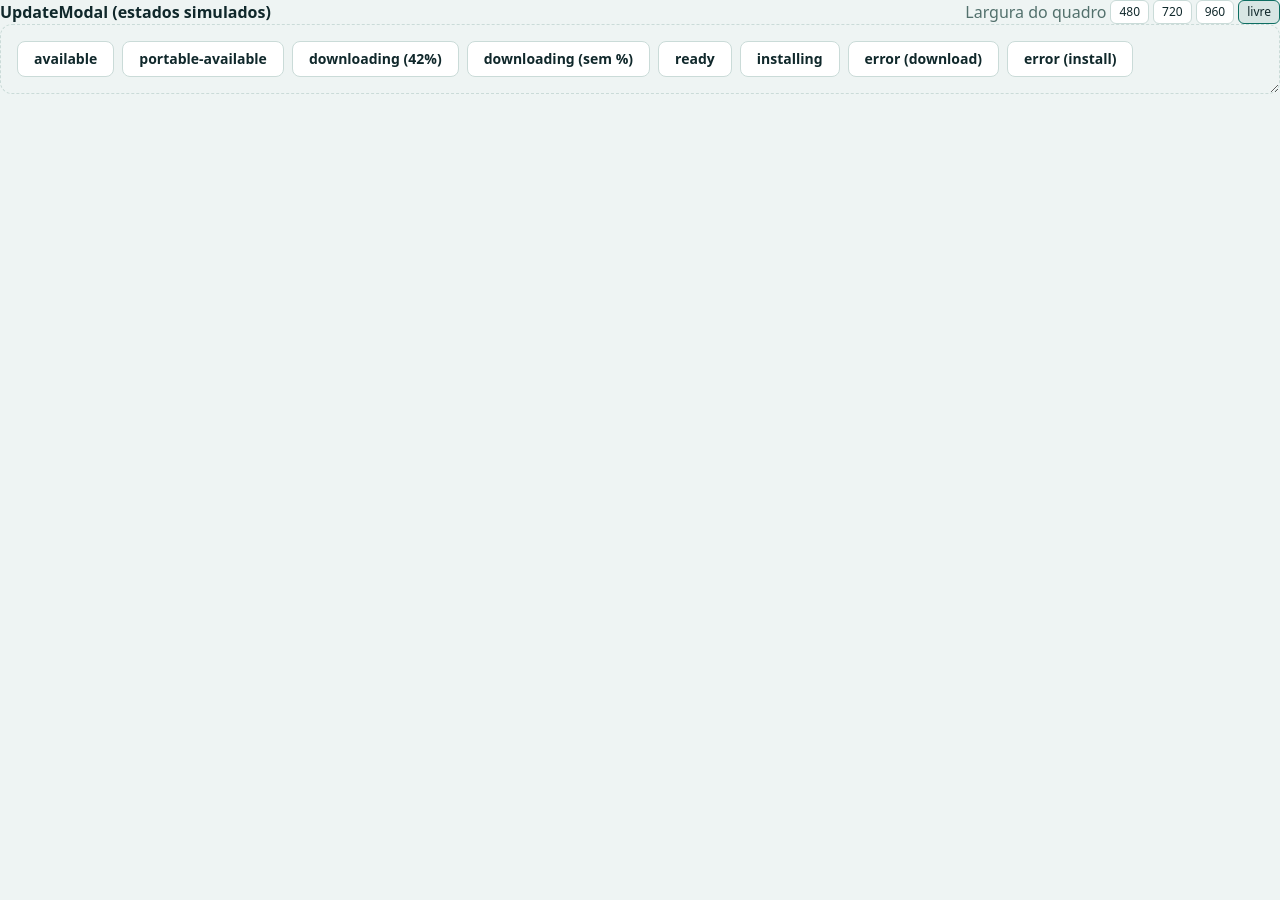
Test case: UpdateSection do guia /design › available mostra as notas no idioma e "Download and install" simula o download
The image size is (1280, 900).
Click the button "available" at [66, 59], box 17,41 -> 114,77
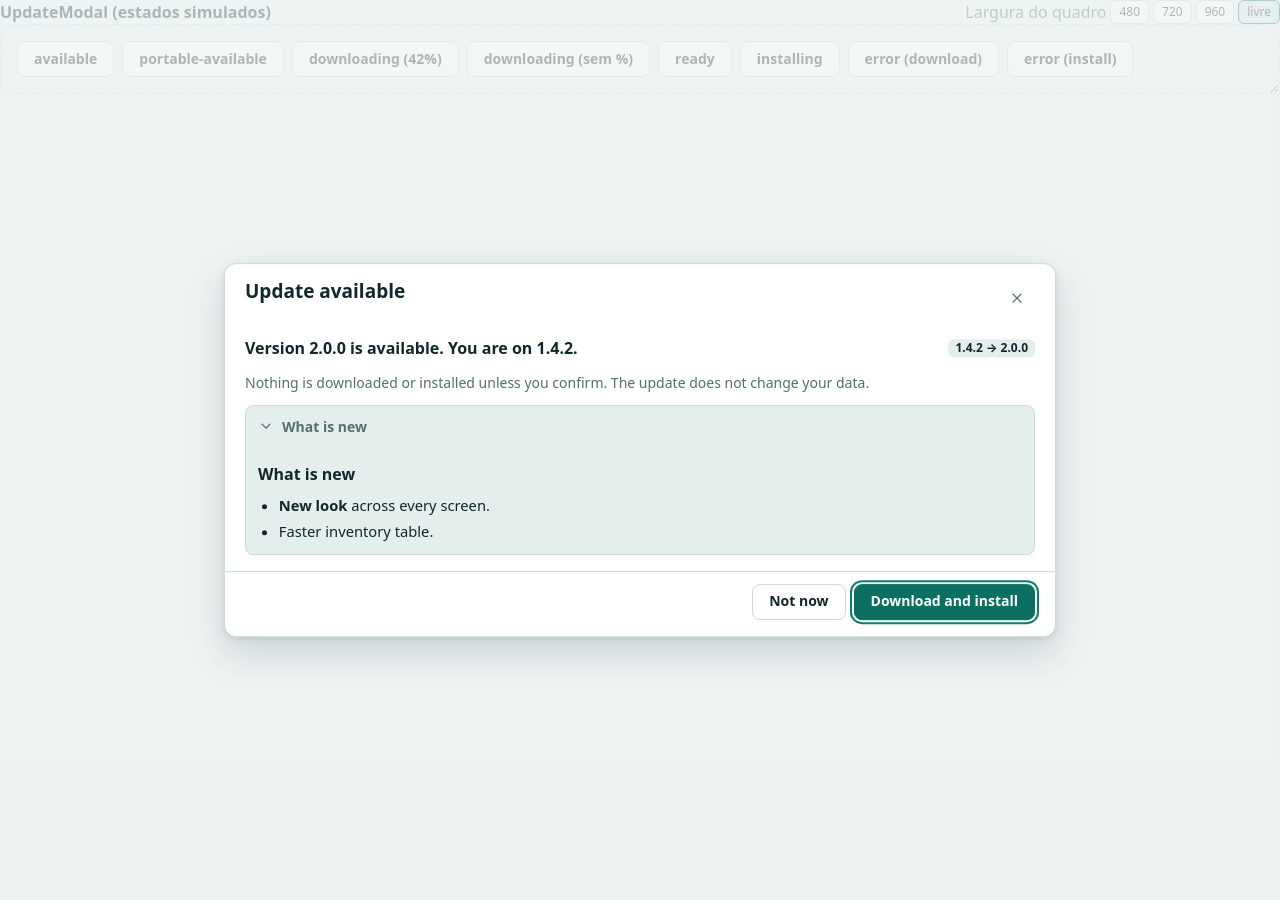
Expected: the dialog "Update available" shows "1.4.2 → 2.0.0", 955,339 -> 1028,356
Click the button "Download and install" at [944, 602], box 854,584 -> 1035,620
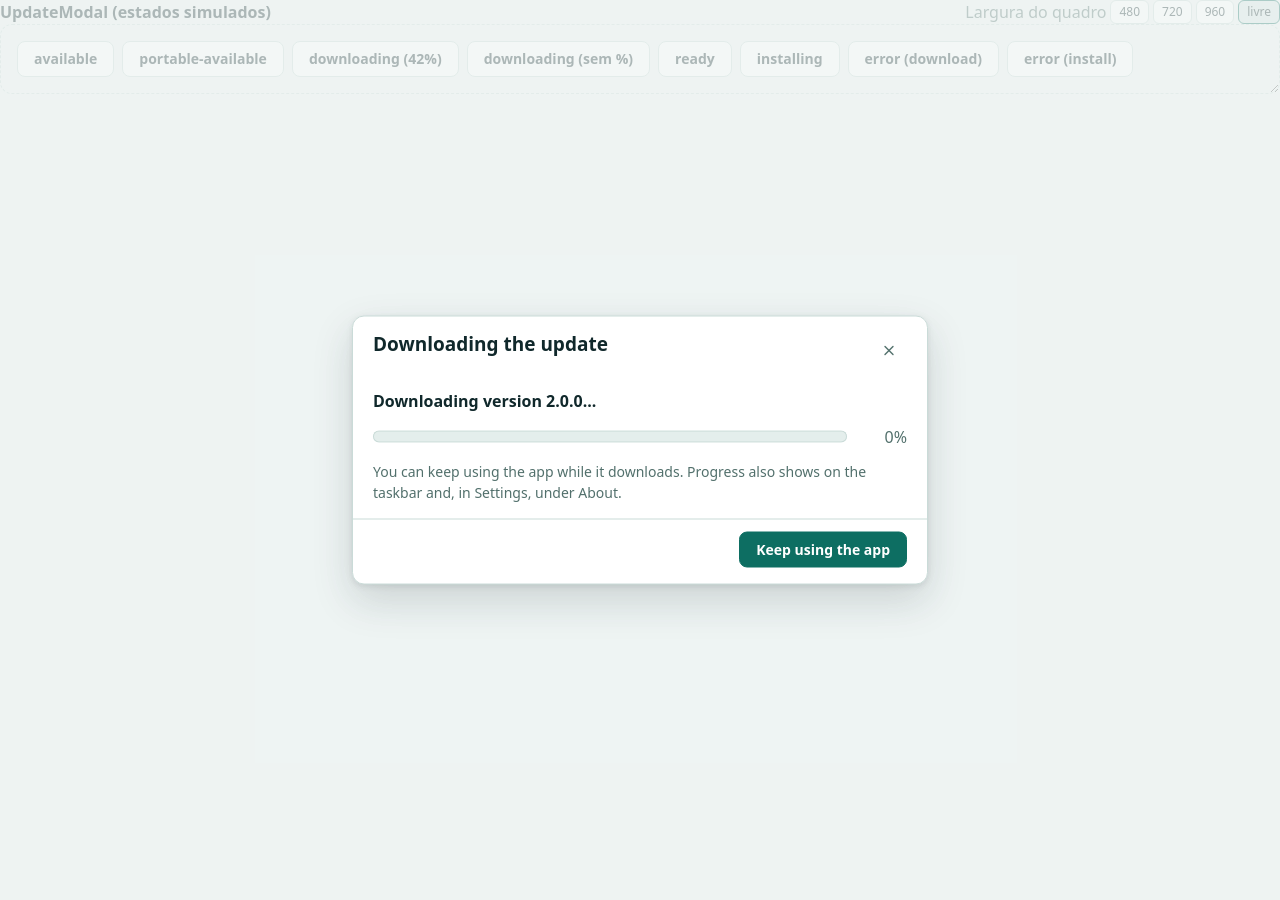
Expected: the dialog "Downloading the update" is shown, 352,316 -> 928,584
